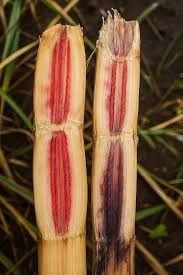Red-Rot: (86, 18, 142, 273), (34, 22, 81, 240)
